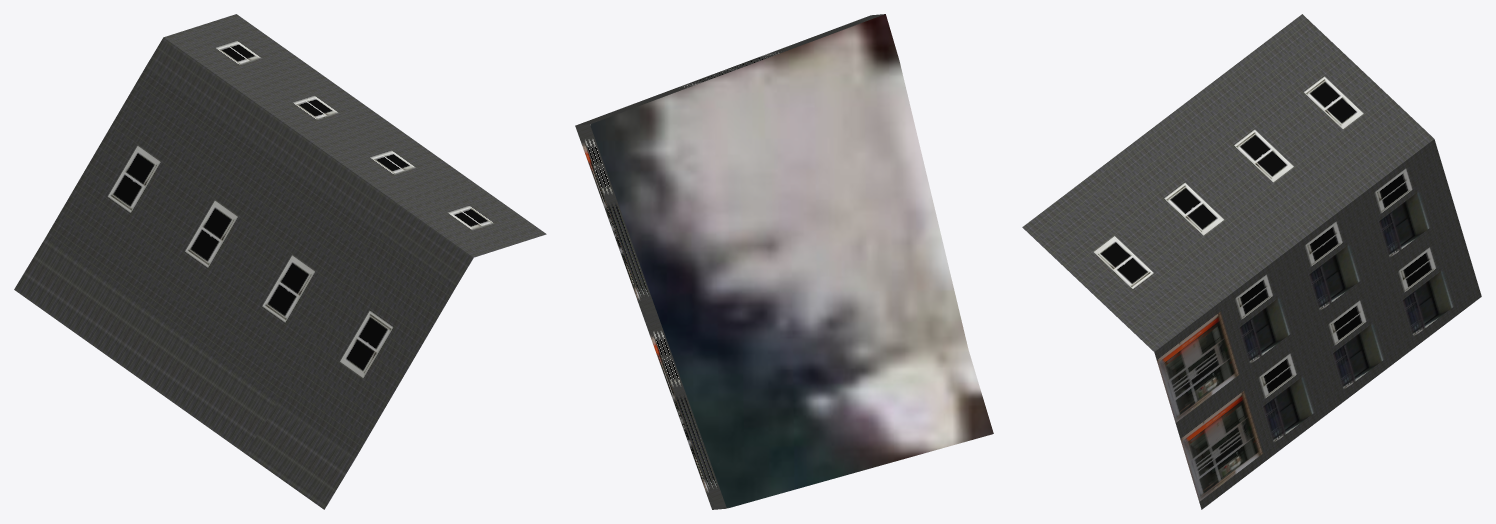
The picture shows the model from 3 angles, left to right: view 1: azimuth 30°, elevation 25°; view 2: azimuth 150°, elevation 25°; view 3: azimuth 270°, elevation 25°; orthographic projection. The views are drawn at different scales.
Size of the model in its own units: 16.17 by 16.35 by 16.46.
4 materials, 4 textured.
